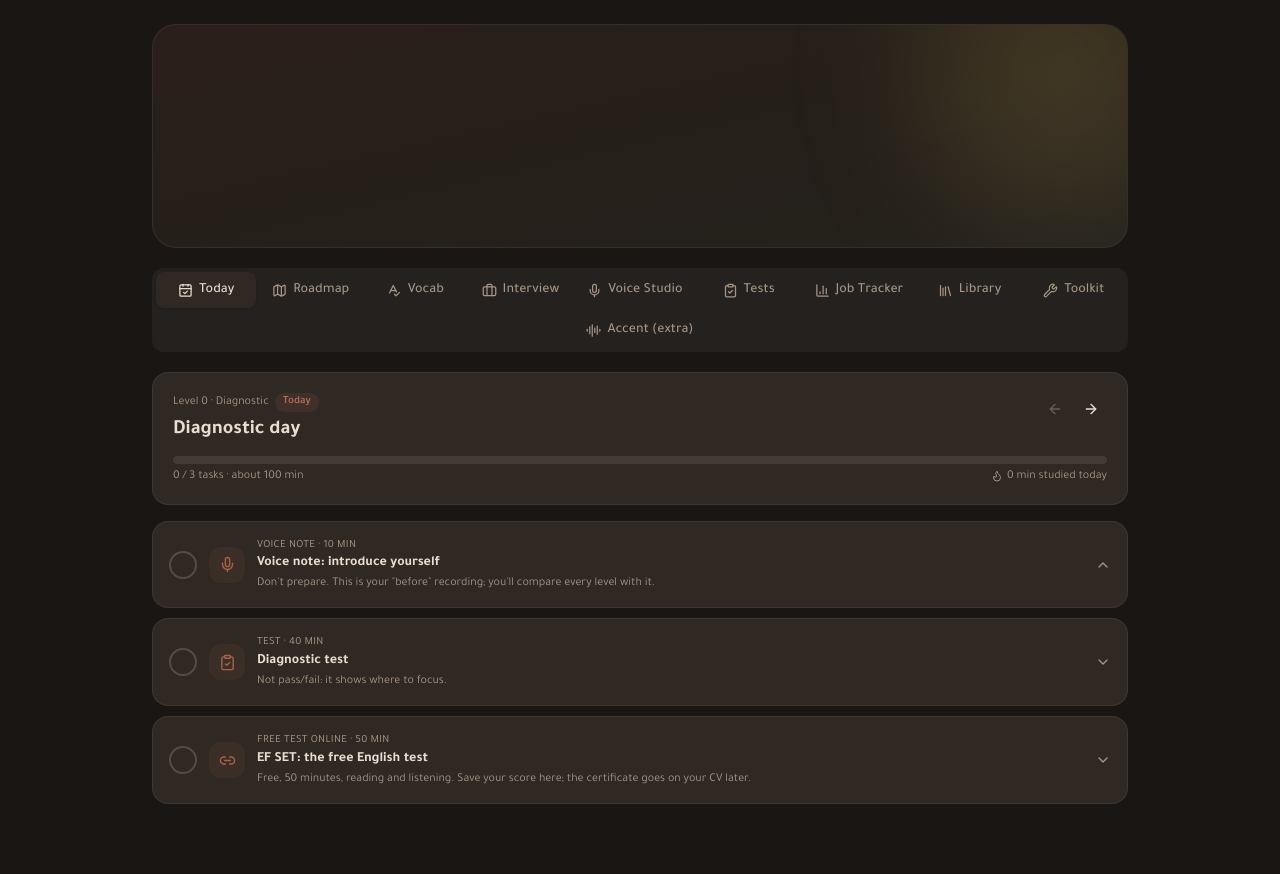
Call Center Prep › runs the diagnostic test from the Tests tab
Click the tab "Tests" at [749, 290], box [698,272,799,308]
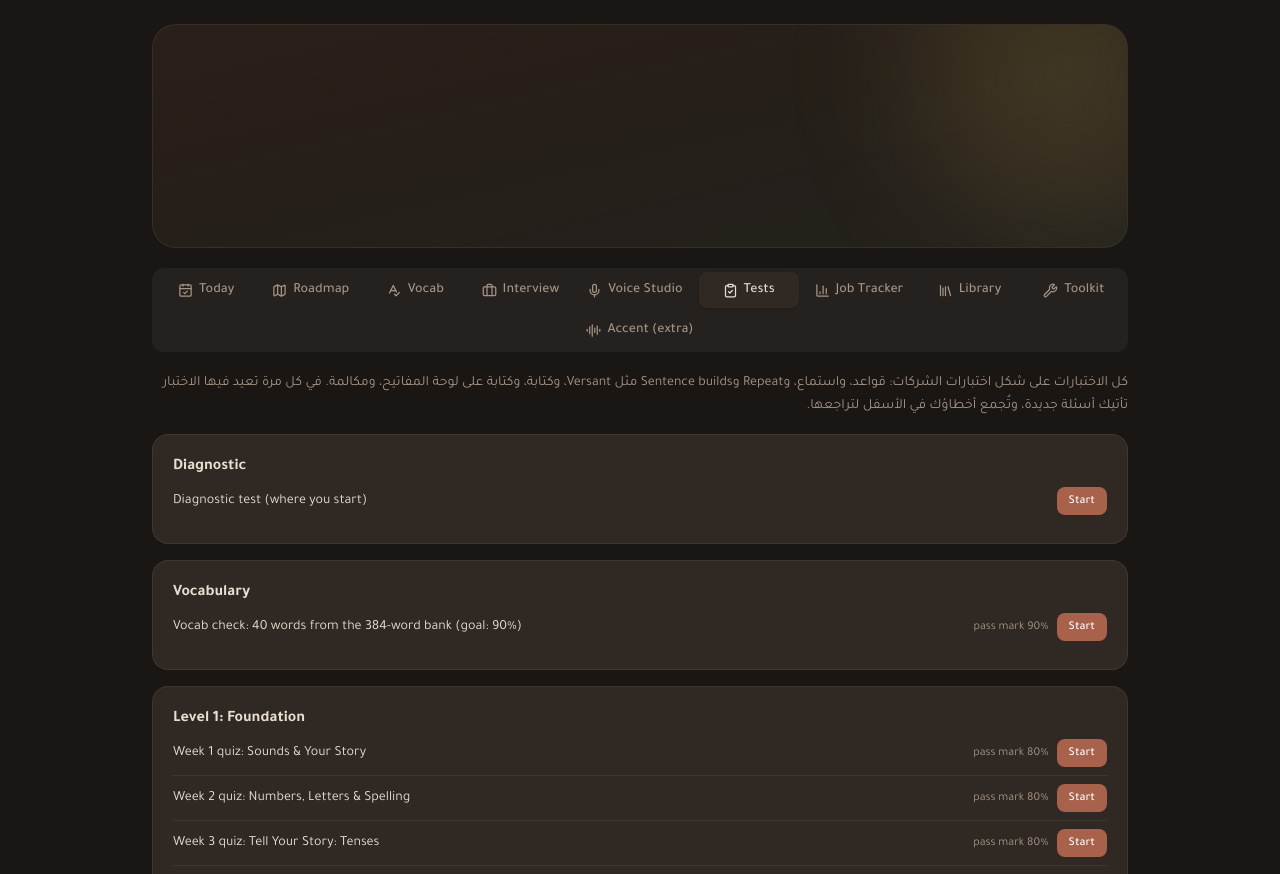
Click the button "Start" in the row of "Diagnostic test (where you start)" at [1082, 500], box [1057,486,1107,514]
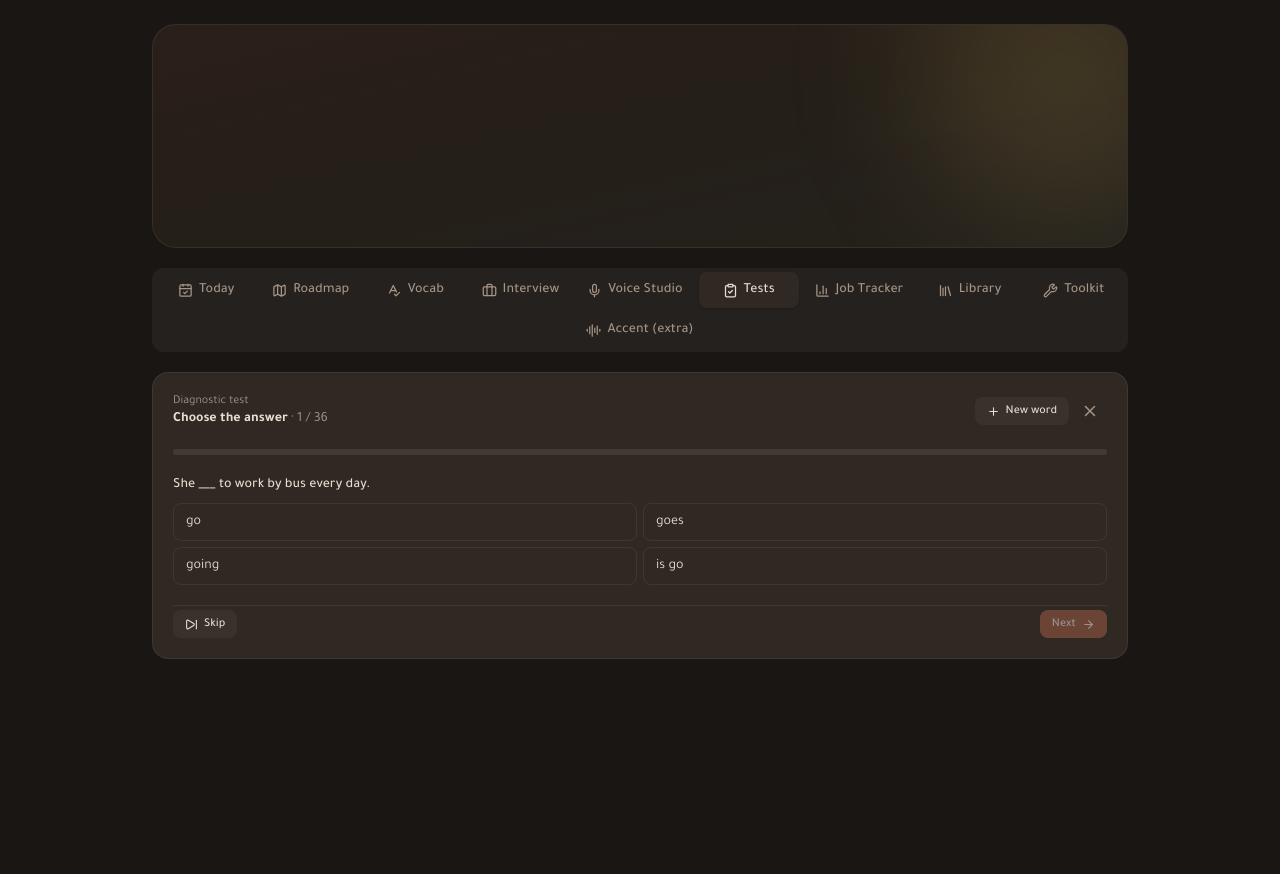
Expected: the text "She ___ to work by bus every day." is shown, [173,478,370,492]
Click the button "goes" at [670, 522], box [643,503,1107,541]
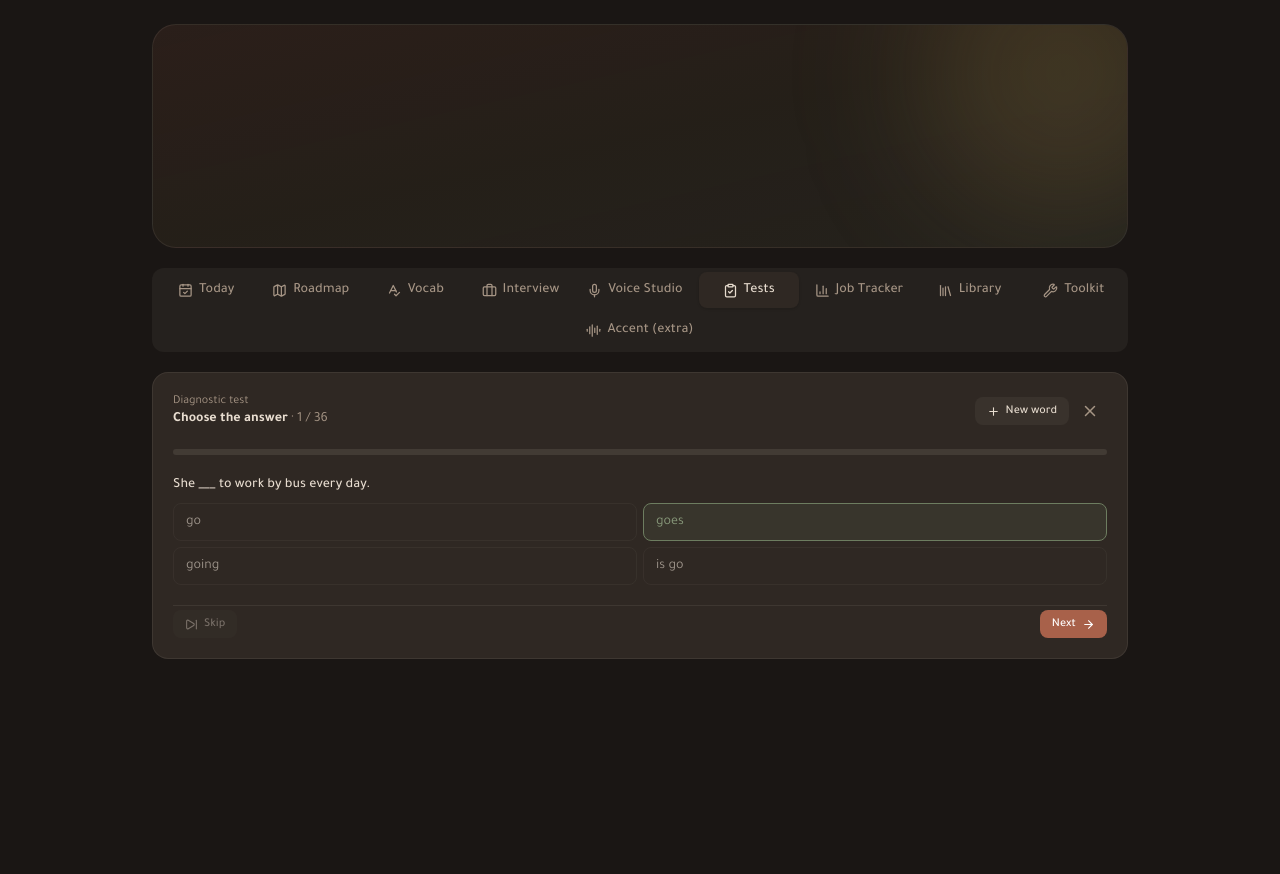
Click the button "Next" at [1073, 624], box [1040,610,1107,638]
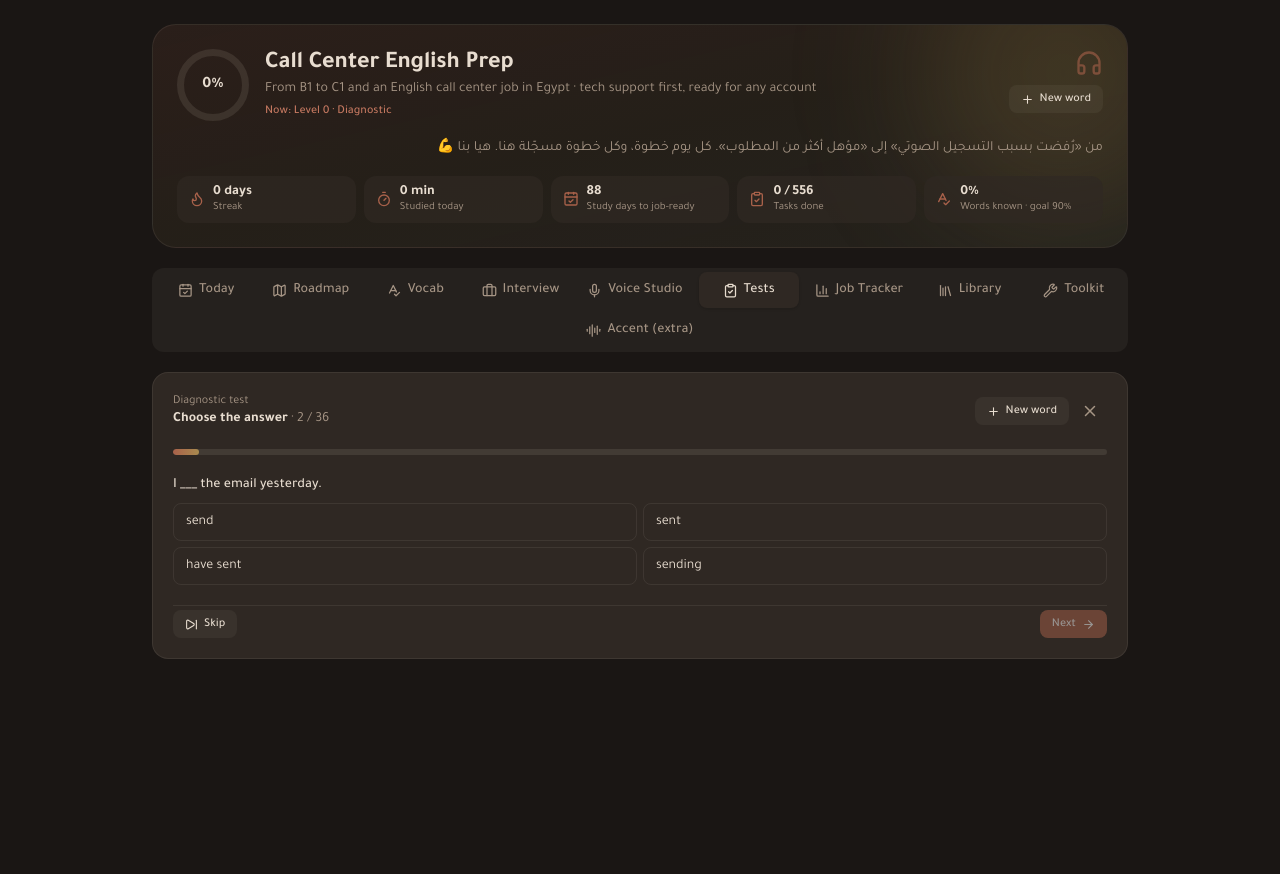
Expected: the text "I ___ the email yesterday." is shown, [173,478,322,492]
